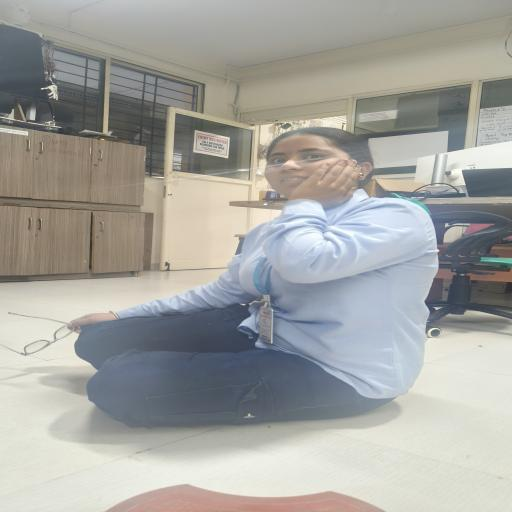survivor: (65, 126, 439, 431)
